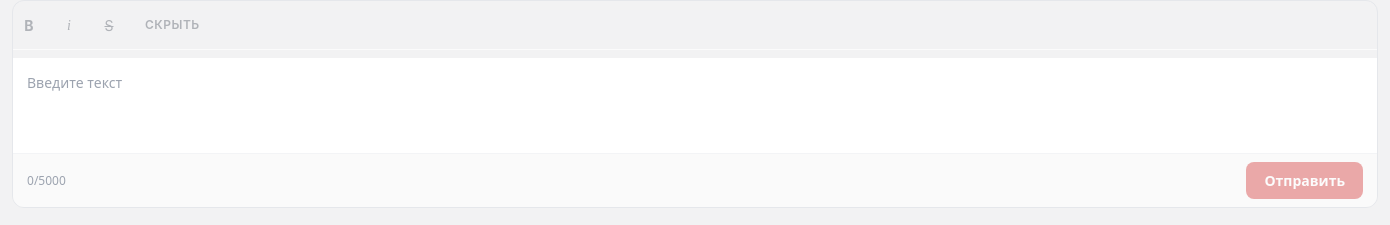
Test: Форматирование текста › Корректная вставка символов форматирования при клике на кнопки
Click the button titled "Жирный" at (29, 25), box [13, 9, 45, 41]
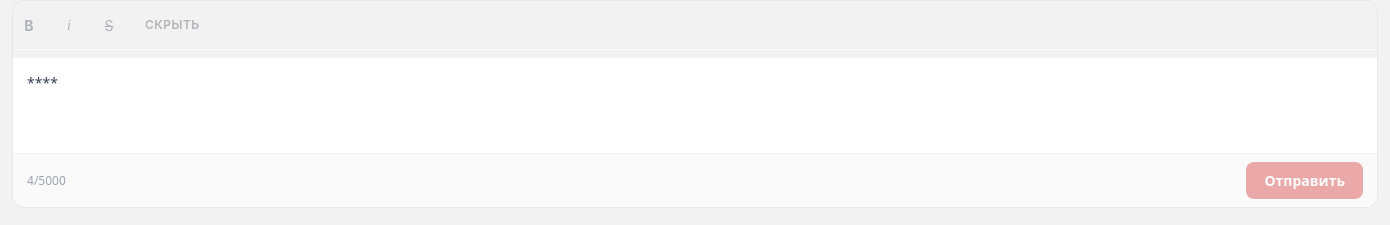
Result: the text box with placeholder "Введите текст" holds "****"
Clear the text box with placeholder "Введите текст" at (695, 106), box [13, 58, 1377, 153]
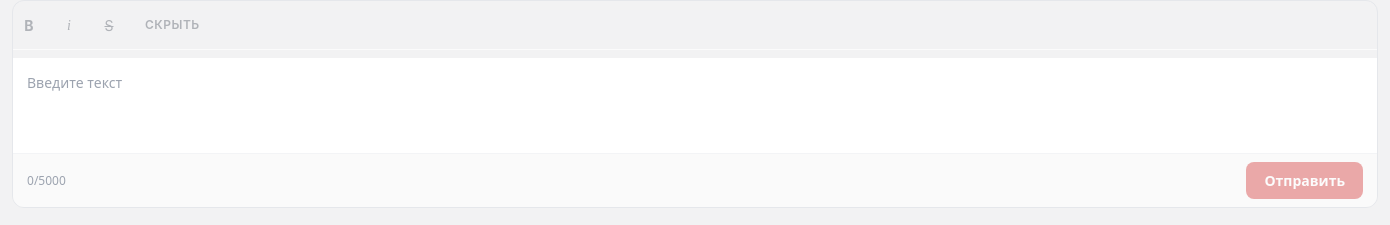
Click the button titled "Скрыть" at (172, 25), box [133, 9, 212, 41]
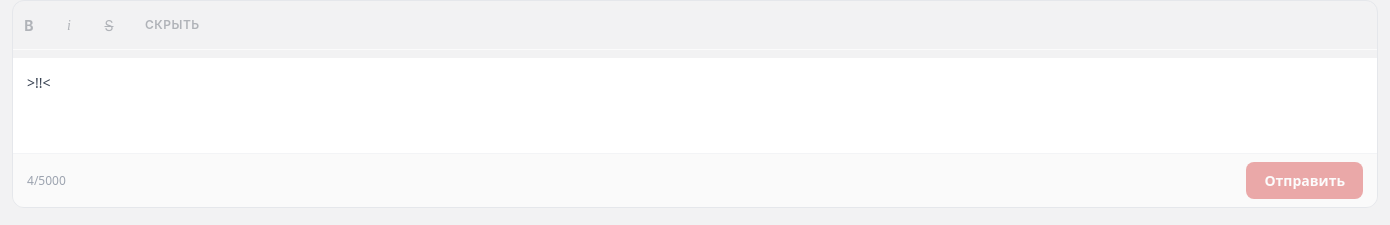
Result: the text box with placeholder "Введите текст" holds ">!!<" at [13, 58, 1377, 153]
